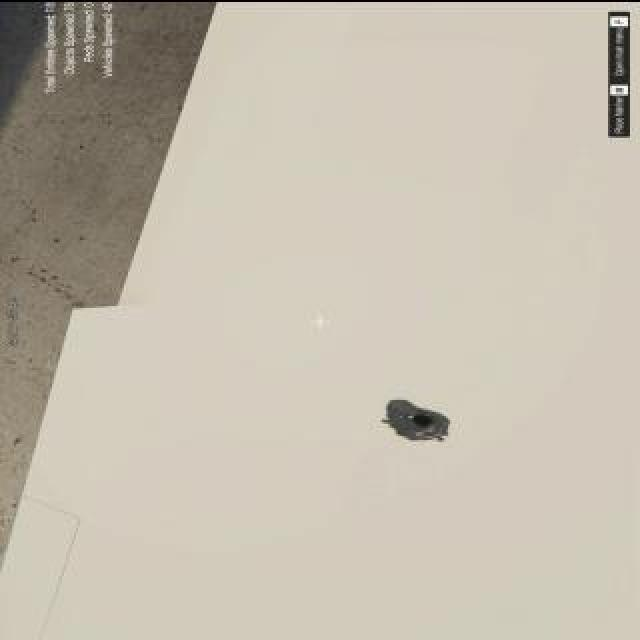crack: (383, 390, 455, 442)
